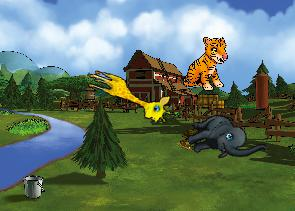elephant: (181, 99, 268, 179)
giraffe: (81, 67, 176, 126)
tiger: (183, 37, 228, 91)
